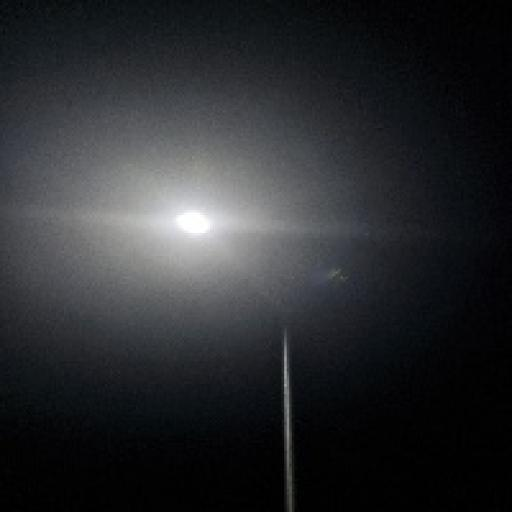Working: (163, 202, 220, 243)
